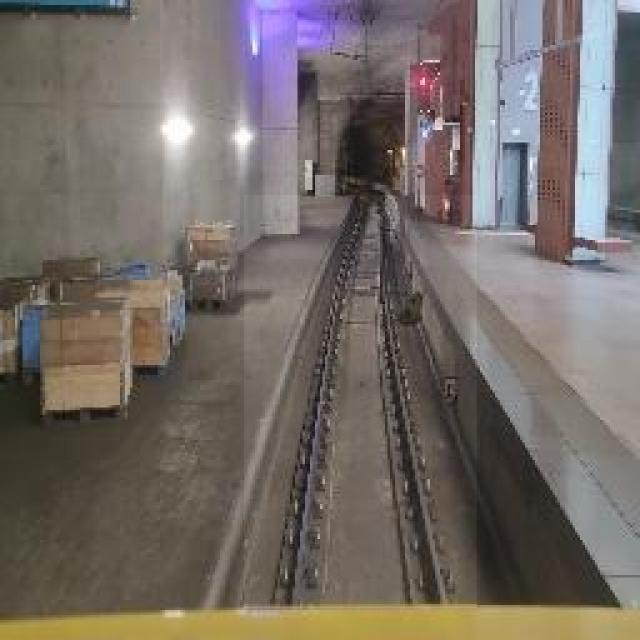rail: (245, 197, 478, 609)
